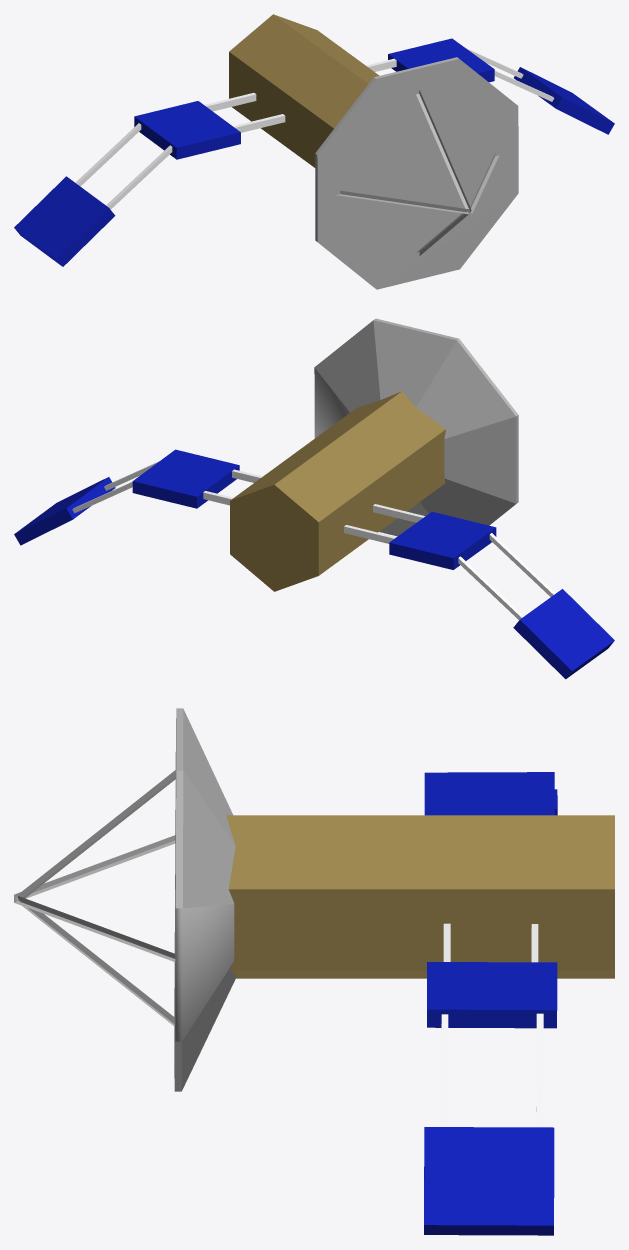
The model's file is satellite_low.gltf.
3 views of the same model, one above another, from view 1: azimuth 30°, elevation 25°; view 2: azimuth 150°, elevation 25°; view 3: azimuth 270°, elevation 25° (orthographic). The views are drawn at different scales.
Parts seen in each view (by area): view 1: Cylinder.003, Cylinder, Cylinder.000, Cylinder.005, Cube.003, Cube; view 2: Cylinder, Cylinder.003, Cylinder.000, Cylinder.005; view 3: Cylinder, Cylinder.005, Cylinder.003, Cylinder.000, Cube, Cube.001, Cube.002, Cube.003.
Boxes of the visible parts, x1=… form: Cylinder.003: x1=315, y1=57, x2=518, y2=289; Cylinder: x1=229, y1=14, x2=379, y2=167; Cylinder.000: x1=14, y1=93, x2=285, y2=266; Cylinder.005: x1=366, y1=38, x2=614, y2=134; Cube.003: x1=336, y1=190, x2=469, y2=214; Cube: x1=416, y1=90, x2=471, y2=212; Cylinder: x1=230, y1=391, x2=445, y2=591; Cylinder.003: x1=314, y1=318, x2=518, y2=536; Cylinder.000: x1=344, y1=504, x2=614, y2=679; Cylinder.005: x1=14, y1=449, x2=262, y2=545; Cylinder: x1=226, y1=815, x2=614, y2=978; Cylinder.005: x1=424, y1=923, x2=557, y2=1235; Cylinder.003: x1=174, y1=708, x2=237, y2=1091; Cylinder.000: x1=424, y1=772, x2=557, y2=815; Cube: x1=16, y1=770, x2=175, y2=901; Cube.001: x1=14, y1=896, x2=175, y2=961; Cube.002: x1=16, y1=900, x2=174, y2=1026; Cube.003: x1=14, y1=835, x2=175, y2=901.
Bounding box in the file's own units: 22.82 × 8.23 × 13.95.
